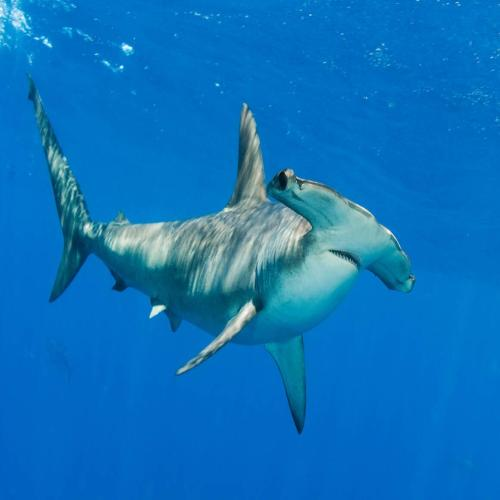shark-endangered: (26, 73, 416, 438)
